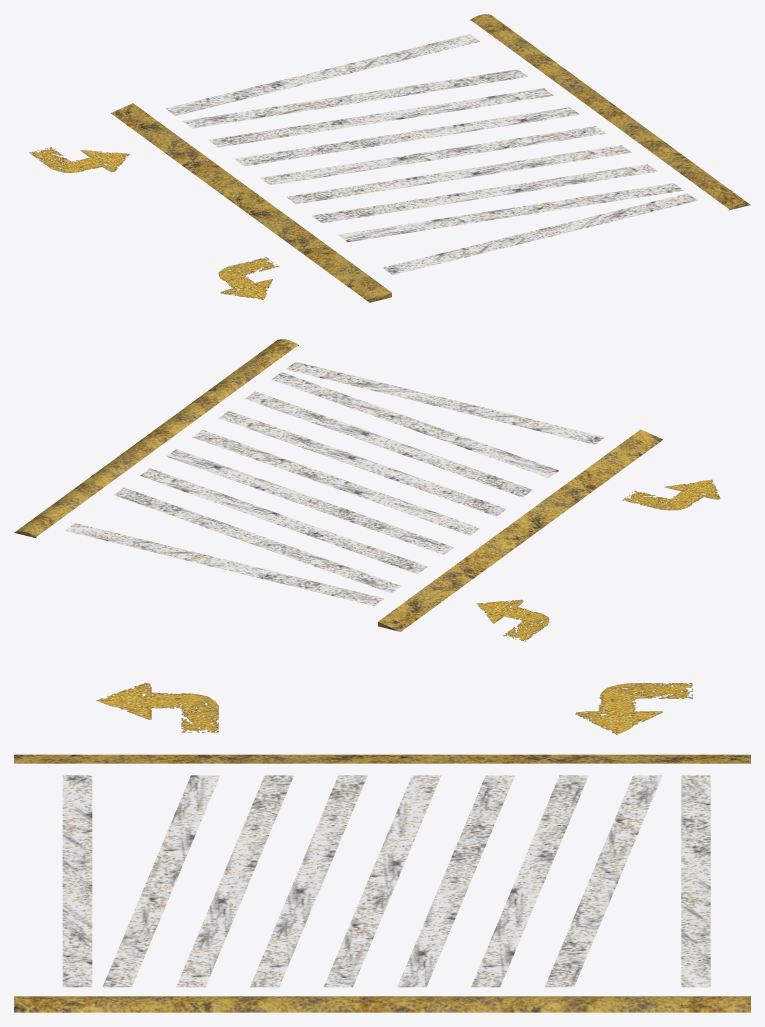
The model's file is curbentrance8m.fbx.
The picture shows the model from 3 angles, top to bottom: view 1: azimuth 30°, elevation 25°; view 2: azimuth 150°, elevation 25°; view 3: azimuth 270°, elevation 25°; orthographic projection. The views are drawn at different scales.
Parts seen in each view (by area): view 1: mesh_0, mesh_2, mesh_1; view 2: mesh_0, mesh_2, mesh_1; view 3: mesh_0, mesh_2, mesh_1.
Boxes of the visible parts, x1,y1,x2,y2 form: mesh_0: (165, 34, 697, 274); mesh_2: (111, 14, 750, 302); mesh_1: (29, 147, 279, 299); mesh_0: (65, 361, 604, 605); mesh_2: (14, 339, 662, 631); mesh_1: (476, 479, 720, 641); mesh_0: (62, 775, 710, 987); mesh_2: (14, 754, 750, 1012); mesh_1: (96, 682, 692, 734).
Bounding box in the file's own units: 1100 × 17 × 1000.
3 materials, 3 textured.
